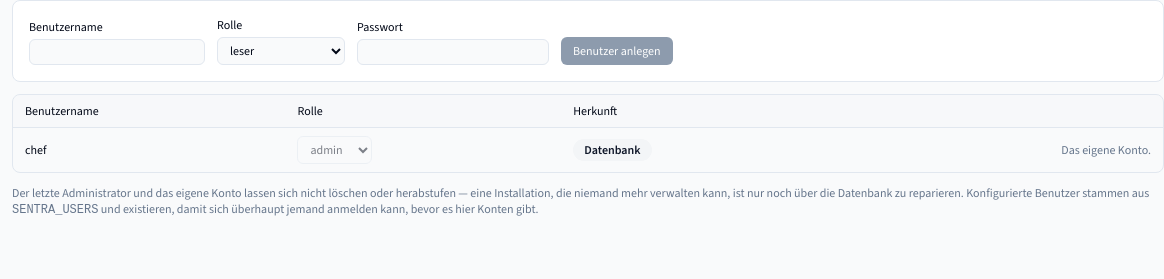
Test: adding somebody › shows the server's reason for refusing
Expected: the text "chef" is shown, [13,128,285,172]
In the field labelled "Benutzername": (117,52) [29,39,205,65], type "chef"
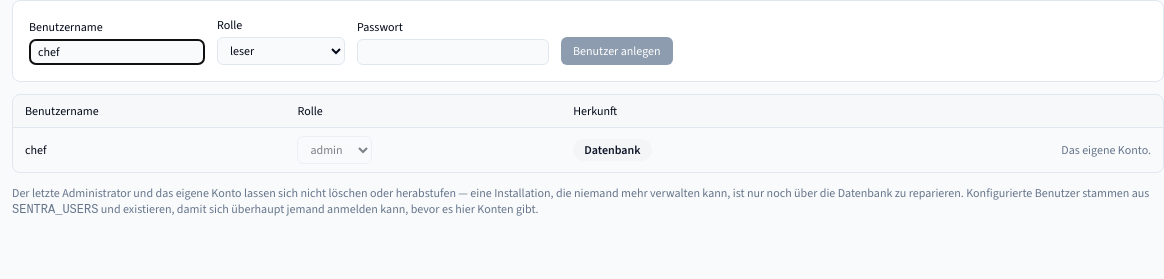
In the password field labelled "Passwort": (453,52) [357,39,549,65], type "x"
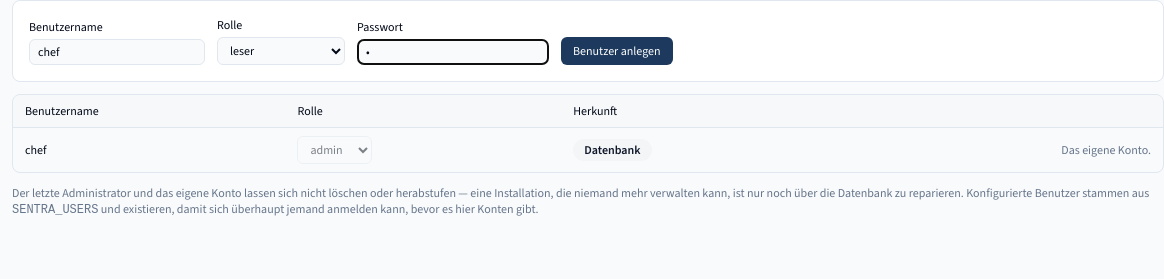
Click the button "Benutzer anlegen": (617,51) [561,37,673,65]
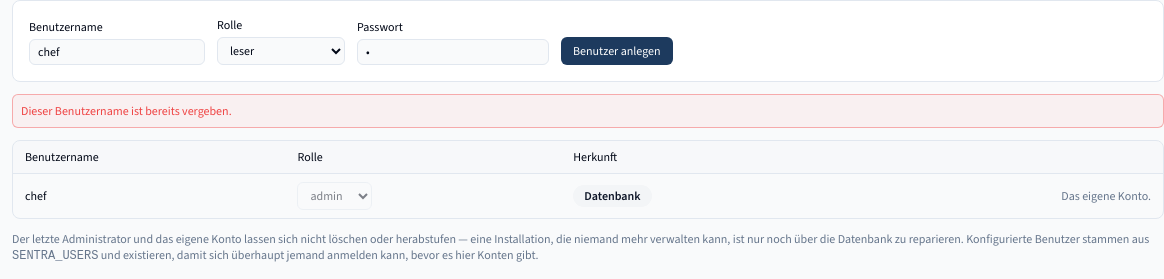
Expected: the message shows "bereits vergeben", [21,103,232,119]
